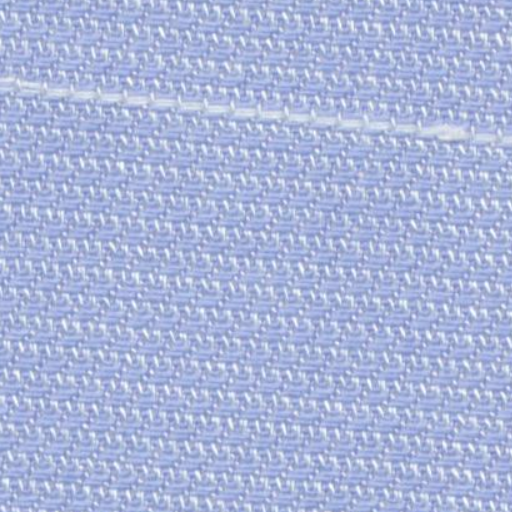TuoSha: (5, 62, 496, 162)
